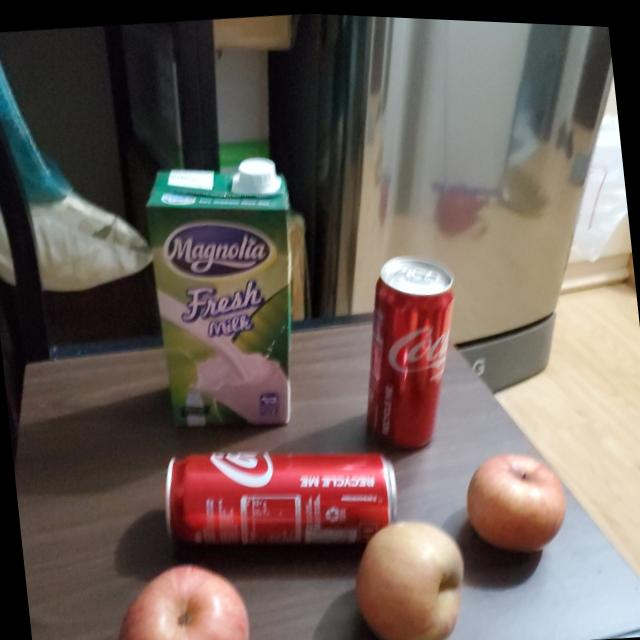apple: (351, 508, 473, 640), (462, 441, 570, 554), (108, 556, 250, 640)
coke: (157, 428, 399, 553), (350, 241, 476, 449)
milk: (138, 147, 318, 441)
